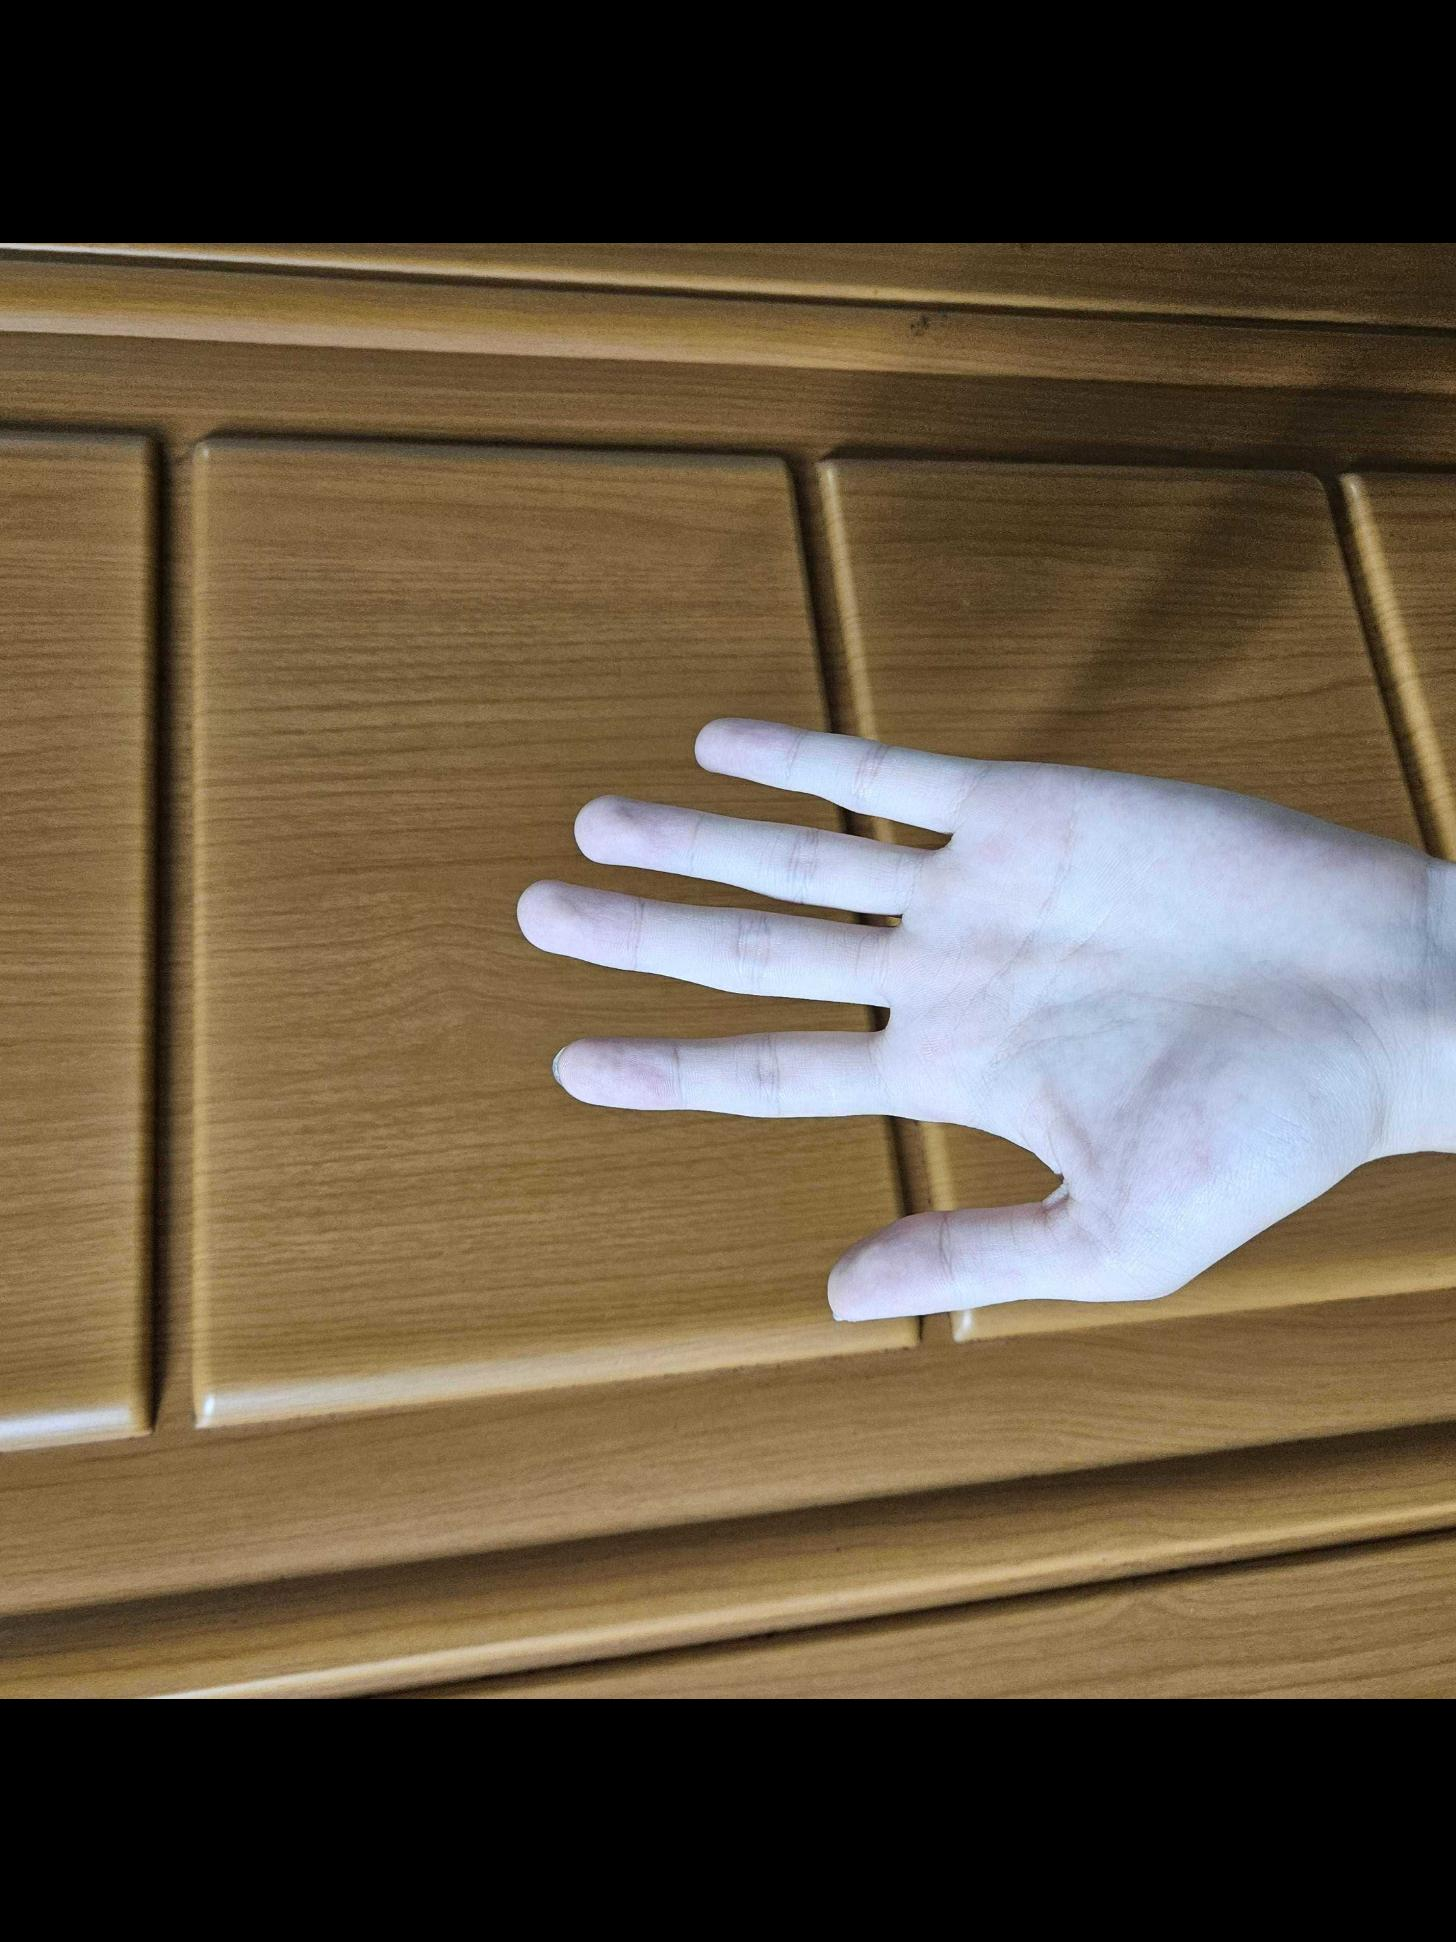open: (471, 703, 1444, 1332)
